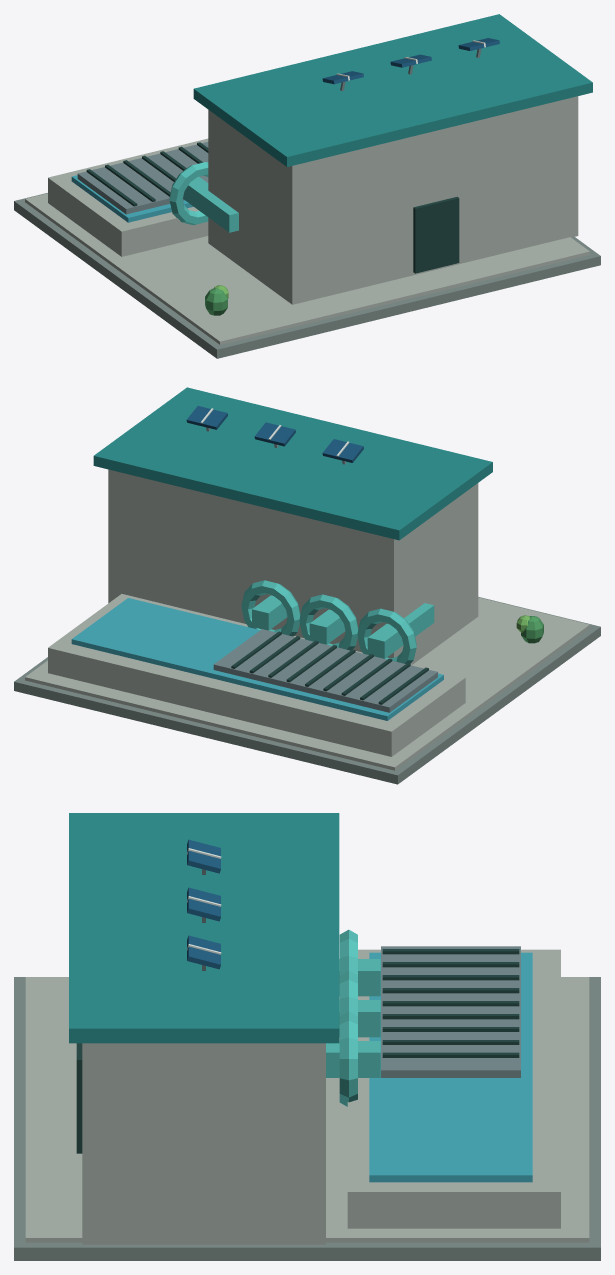
The model's file is drain_lv3.glb.
3 views of the same model, one above another, from view 1: azimuth 30°, elevation 25°; view 2: azimuth 150°, elevation 25°; view 3: azimuth 270°, elevation 25° (orthographic). The views are drawn at different scales.
Parts seen in each view (by area): view 1: concrete, teal, pavement, dark, steel, turquoise, solar, water, green; view 2: concrete, teal, water, pavement, turquoise, steel, dark, solar; view 3: concrete, teal, water, pavement, steel, dark, turquoise, solar.
Part boxes in pixels (x1,y1,x2,y2): concrete: (25, 96, 589, 344); teal: (193, 14, 592, 166); pavement: (14, 193, 600, 358); dark: (86, 142, 459, 273); steel: (77, 48, 481, 214); turquoise: (169, 162, 238, 232); solar: (322, 38, 499, 84); water: (71, 175, 193, 222); green: (205, 288, 227, 315); concrete: (25, 469, 589, 770); teal: (93, 387, 492, 540); water: (71, 598, 443, 720); pavement: (14, 597, 600, 784); turquoise: (241, 580, 434, 663); steel: (206, 427, 437, 712); dark: (231, 631, 428, 704); solar: (186, 406, 363, 462); concrete: (25, 949, 589, 1244); teal: (69, 813, 339, 1043); water: (369, 952, 532, 1182); pavement: (14, 977, 600, 1260); steel: (202, 869, 520, 1077); dark: (76, 949, 519, 1153); turquoise: (326, 929, 380, 1106); solar: (187, 839, 220, 969).
Size of the model in its own units: 9.88 by 4.58 by 8.8.
